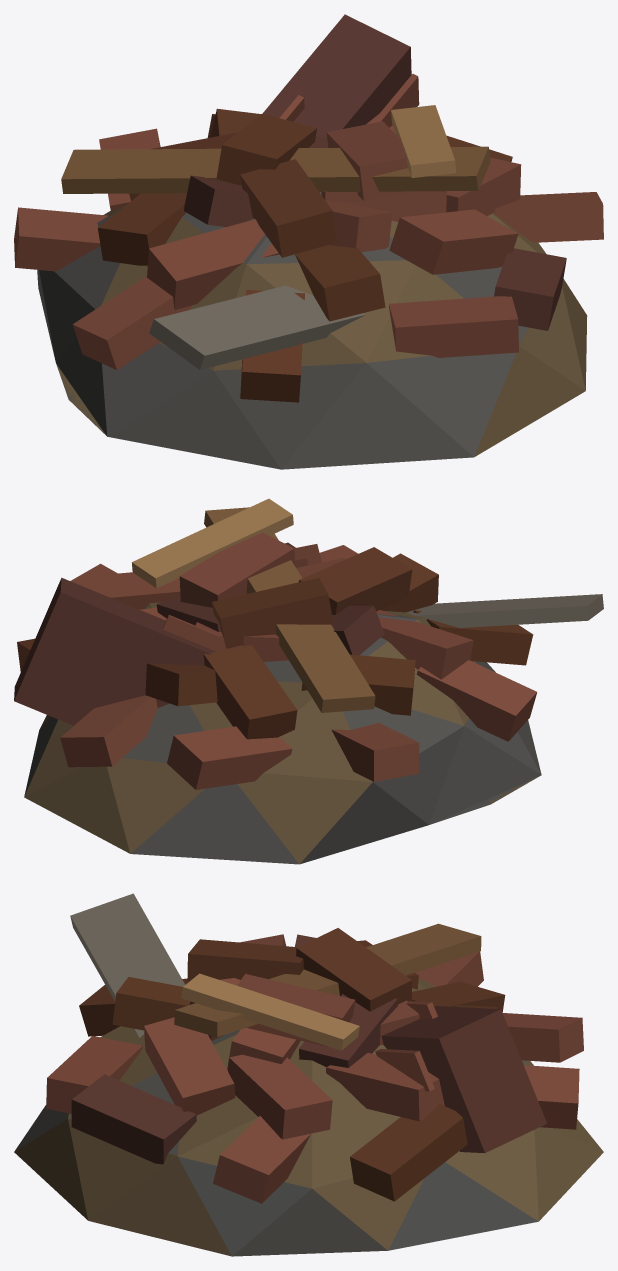
File: ruin_debris_a.fbx
3 renders of one model, top to bottom at view 1: azimuth 30°, elevation 25°; view 2: azimuth 150°, elevation 25°; view 3: azimuth 270°, elevation 25°, orthographic. The views are drawn at different scales.
Visible parts, largest first — view 1: ruin_debris_a; view 2: ruin_debris_a; view 3: ruin_debris_a.
Part boxes in pixels (bbox=[...]): ruin_debris_a: bbox=[14, 14, 603, 469]; ruin_debris_a: bbox=[14, 498, 603, 864]; ruin_debris_a: bbox=[14, 893, 603, 1256].
Bounding box in the file's own units: 1.07 × 0.4298 × 1.13.
